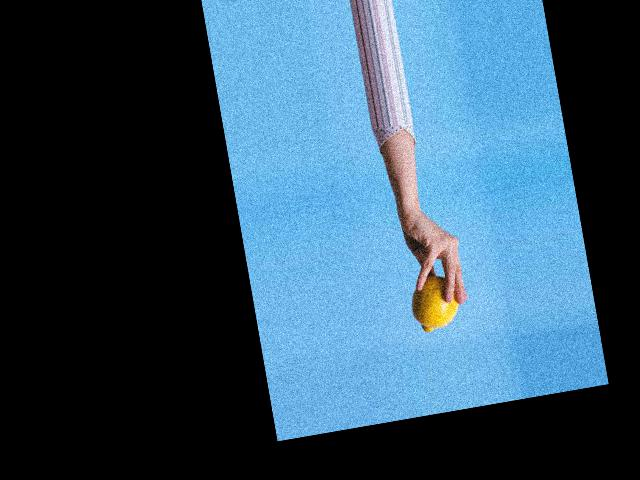lemon: (400, 256, 481, 337)
